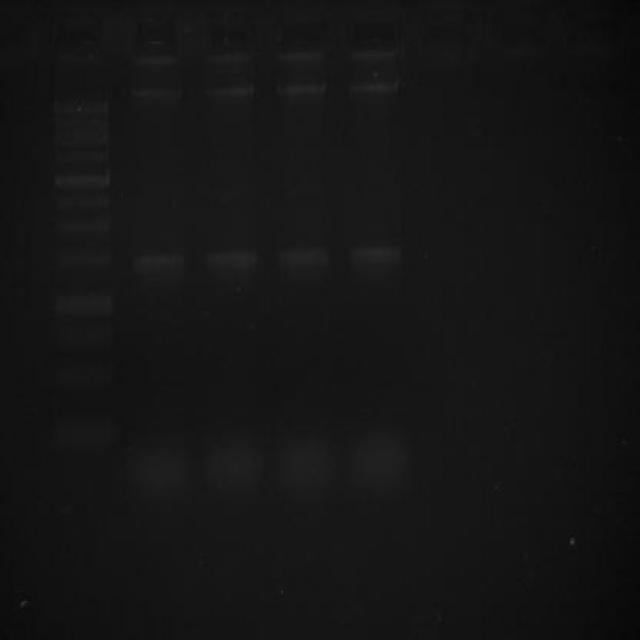B: (345, 242, 407, 273), (128, 247, 187, 278), (272, 242, 331, 270), (202, 244, 256, 274)
L: (42, 0, 406, 71)
M: (43, 83, 123, 500)
P: (46, 406, 116, 468), (53, 242, 113, 272), (53, 291, 115, 320), (51, 147, 112, 167), (54, 213, 112, 234), (53, 190, 113, 210), (51, 128, 111, 147), (51, 172, 112, 188), (53, 99, 109, 116), (52, 116, 110, 129)
Pc: (270, 5, 330, 66), (196, 6, 256, 65), (344, 6, 402, 63), (130, 8, 183, 66), (56, 9, 106, 68)
